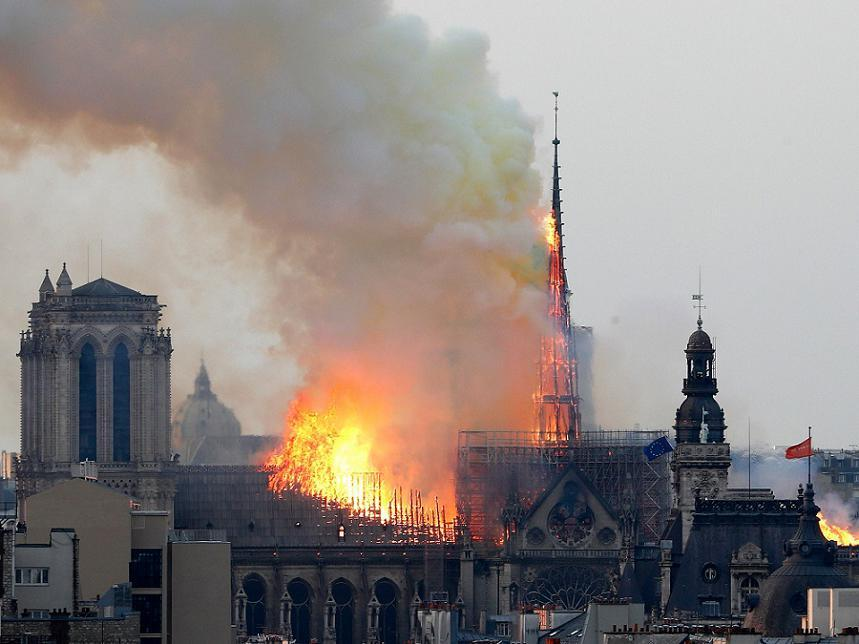Fire: (255, 401, 506, 540), (526, 207, 599, 440), (812, 504, 859, 550)
